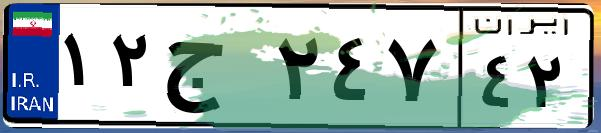1: (57, 26, 110, 100)
2: (270, 28, 330, 110), (525, 38, 570, 115), (110, 28, 158, 98)
4: (330, 28, 385, 110), (475, 38, 525, 113)
7: (385, 28, 445, 110)
ج: (158, 20, 270, 120)
